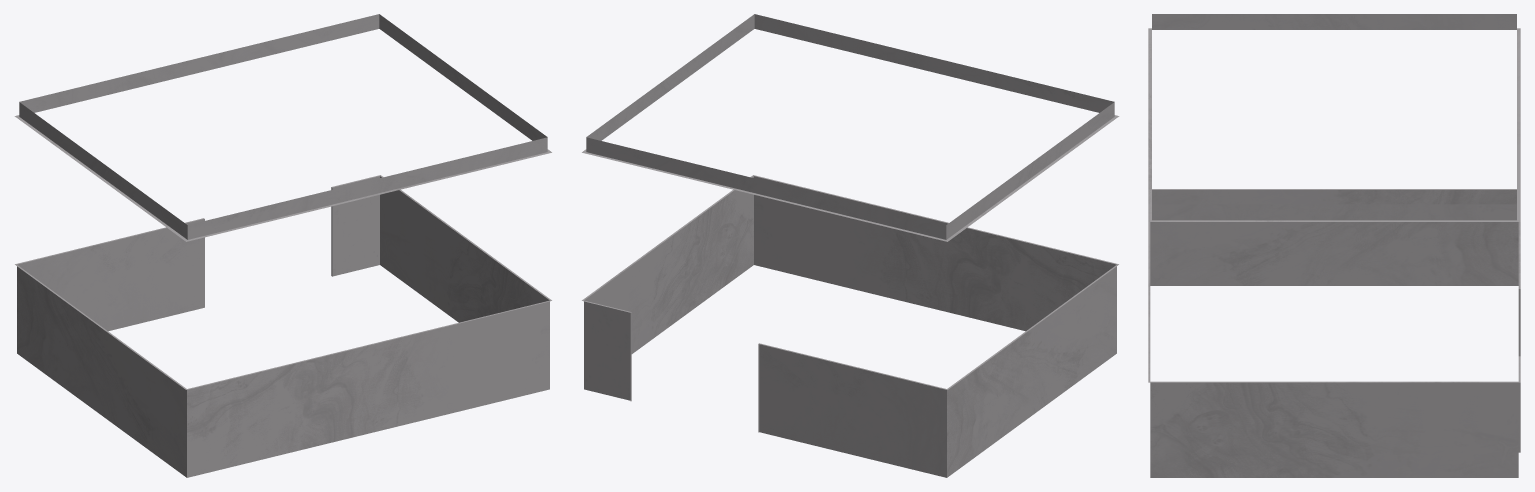
File: Acabamento.fbx
3 views of the same model, side by side, from view 1: azimuth 30°, elevation 25°; view 2: azimuth 150°, elevation 25°; view 3: azimuth 270°, elevation 25° (orthographic). The views are drawn at different scales.
Visible parts, largest first — view 1: Plane; view 2: Plane; view 3: Plane.
Part boxes in pixels (x1,y1,x2,y2): Plane: [14, 14, 551, 477]; Plane: [582, 14, 1119, 477]; Plane: [1148, 14, 1520, 477].
Bounding box in the file's own units: 517 × 340 × 420.
1 material, 1 textured.
